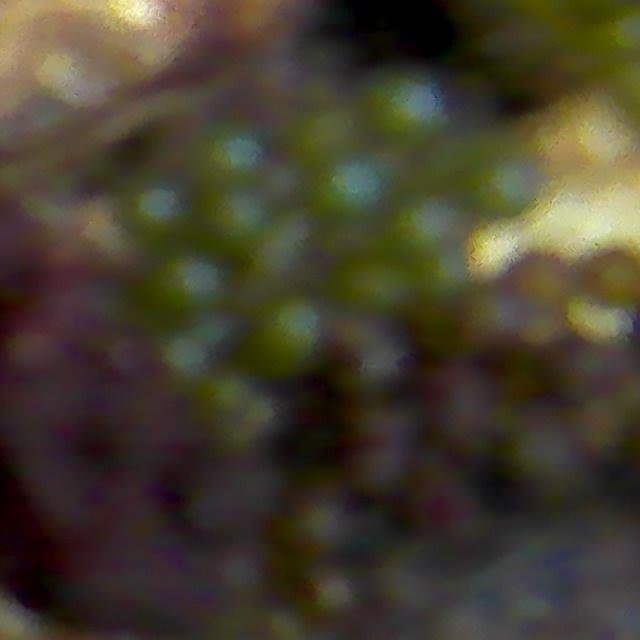SeaGrape: (371, 69, 448, 144), (331, 317, 402, 398), (336, 412, 407, 490), (314, 151, 389, 221), (285, 500, 358, 571), (538, 335, 614, 403), (473, 151, 544, 220), (394, 191, 467, 258), (460, 337, 536, 400), (259, 297, 324, 368), (345, 254, 416, 318), (429, 401, 500, 463), (512, 432, 575, 500), (156, 252, 224, 313), (201, 123, 265, 185), (209, 186, 270, 246), (511, 249, 567, 307), (130, 181, 188, 237), (589, 247, 640, 309), (570, 398, 616, 454), (310, 574, 360, 619)
